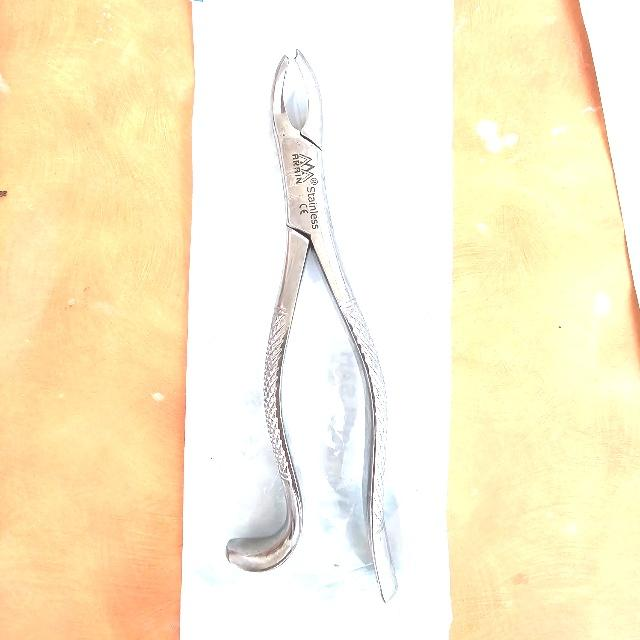forceps: (231, 48, 401, 608)
